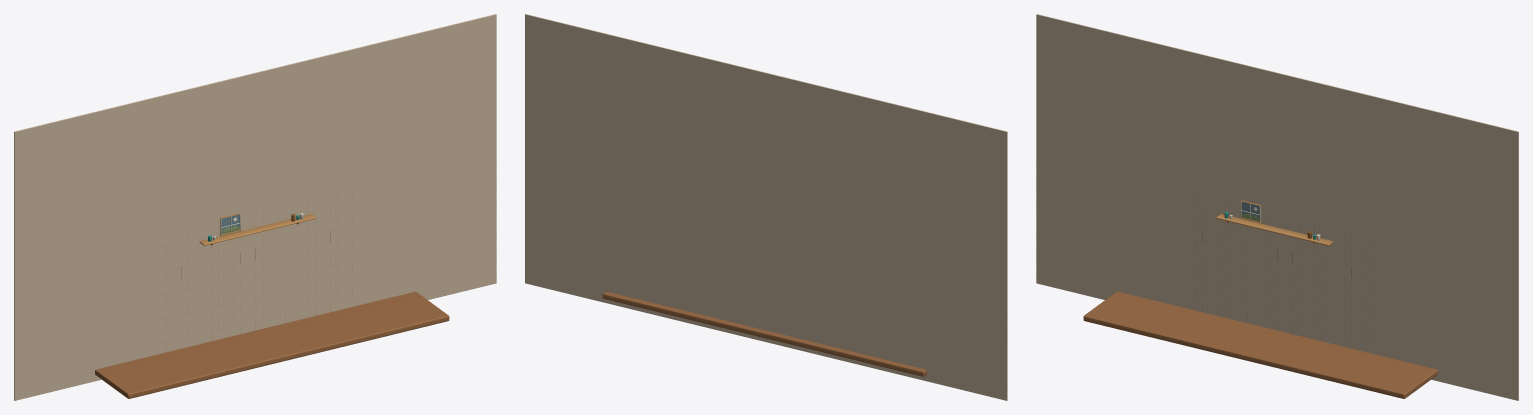
Rendered from kitchen_farmhouse.glb.
3 renders of one model, left to right at view 1: azimuth 30°, elevation 25°; view 2: azimuth 150°, elevation 25°; view 3: azimuth 330°, elevation 25°, orthographic.
Parts seen in each view (by area): view 1: Cream plaster wall, Solid maple worktop, Oak shelf; view 2: Cream plaster wall, Solid maple worktop; view 3: Cream plaster wall, Solid maple worktop, Oak shelf.
Boxes of the visible parts, x1,y1,x2,y2 form: Cream plaster wall: [14, 14, 496, 400]; Solid maple worktop: [95, 291, 449, 398]; Oak shelf: [199, 213, 316, 245]; Cream plaster wall: [525, 14, 1007, 400]; Solid maple worktop: [602, 291, 926, 376]; Cream plaster wall: [1036, 14, 1518, 400]; Solid maple worktop: [1083, 291, 1437, 398]; Oak shelf: [1216, 211, 1333, 245].
Size of the model in its own units: 60 by 32 by 8.
